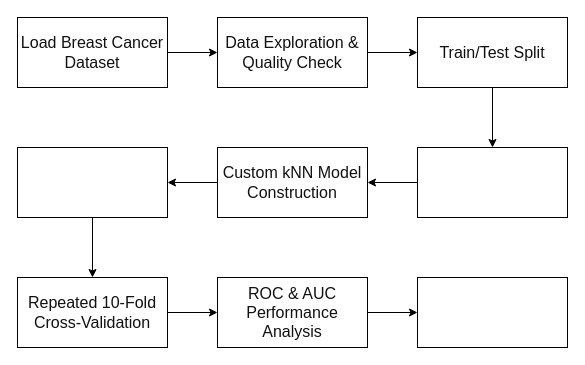
Some shapes in this 585 by 365 pixel diagram are drawn without their labels. The box of each missing label's shape, as (x1, y1, x2, y2) in pixels:
Final Prediction & Model Evaluation: (416, 276, 568, 348)
k-value Evaluation: (16, 146, 168, 218)
Z-score Normalization: (416, 146, 568, 218)
